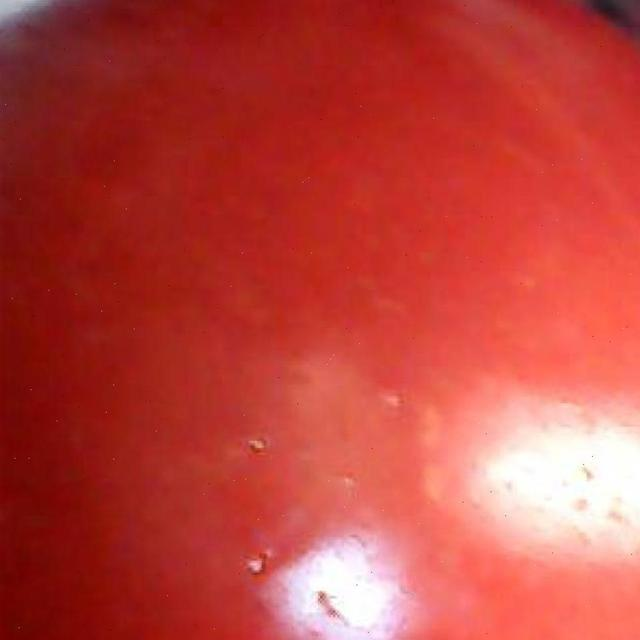Healthy Fruit: (0, 5, 423, 427)
